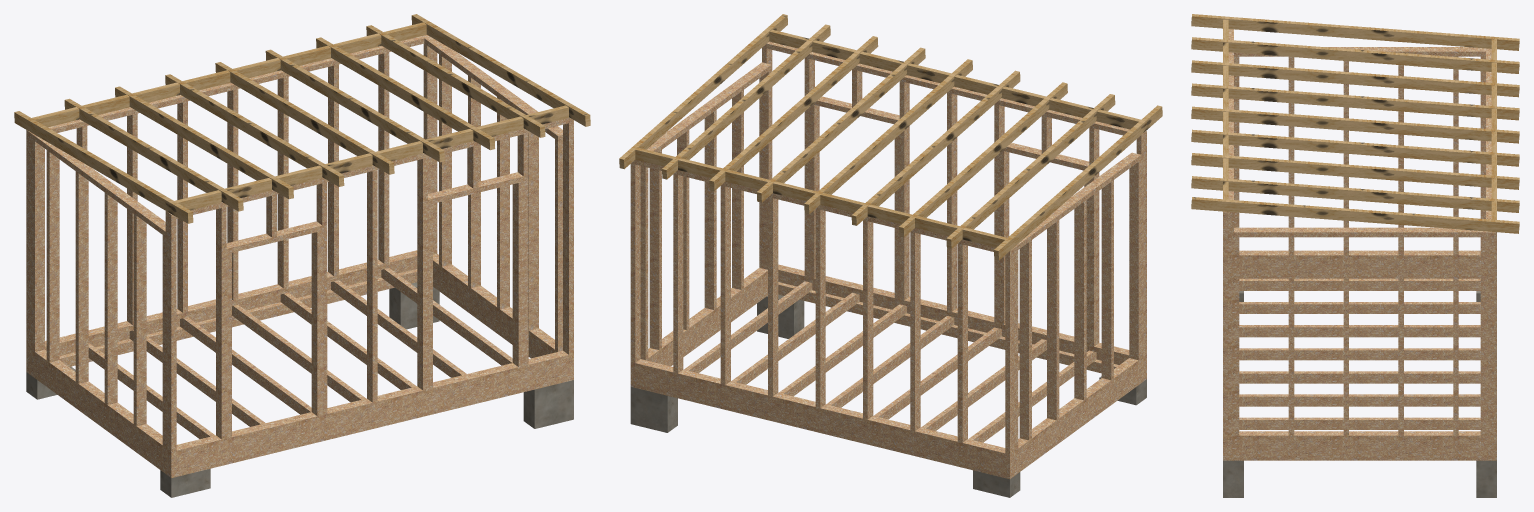
The model's file is Дровник.fbx.
The picture shows the model from 3 angles, left to right: view 1: azimuth 30°, elevation 25°; view 2: azimuth 150°, elevation 25°; view 3: azimuth 270°, elevation 25°; orthographic projection. The views are drawn at different scales.
Visible parts, largest first — view 1: Model; view 2: Model; view 3: Model.
Part boxes in pixels (x1,y1,x2,y2): Model: (14,14,590,497); Model: (619,14,1162,497); Model: (1191,14,1519,497).
Size of the model in its own units: 400 by 301 by 300.
